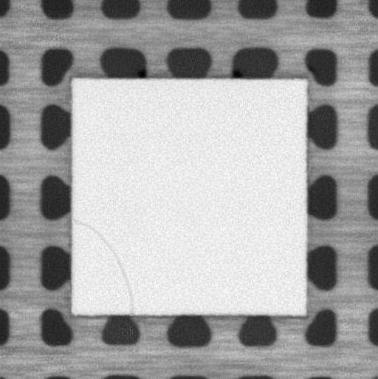DIE_CRACK: (75, 219, 135, 314)
